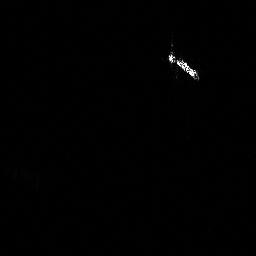ship: (164, 47, 201, 82)
